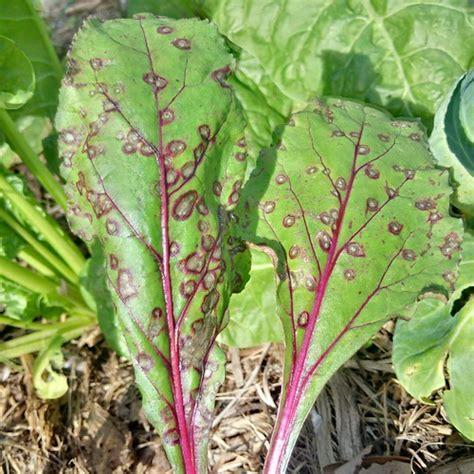black-spot: (90, 53, 201, 176), (357, 162, 438, 272)
